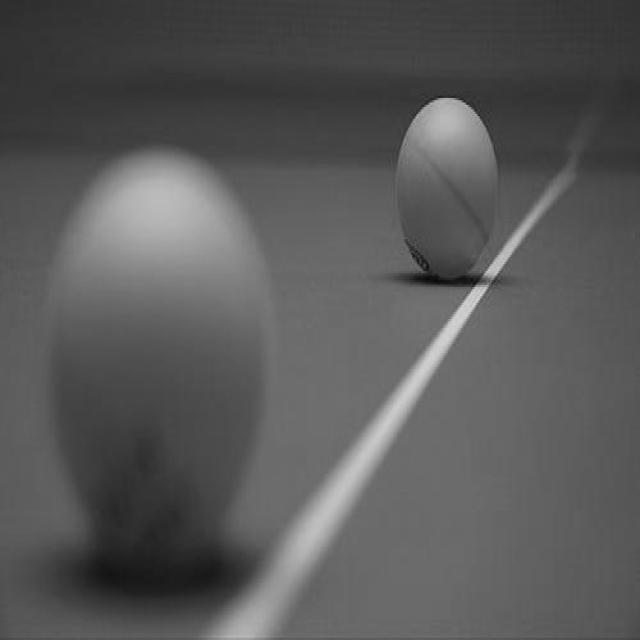ping-pong-ball: (42, 144, 276, 585), (391, 90, 502, 289)
